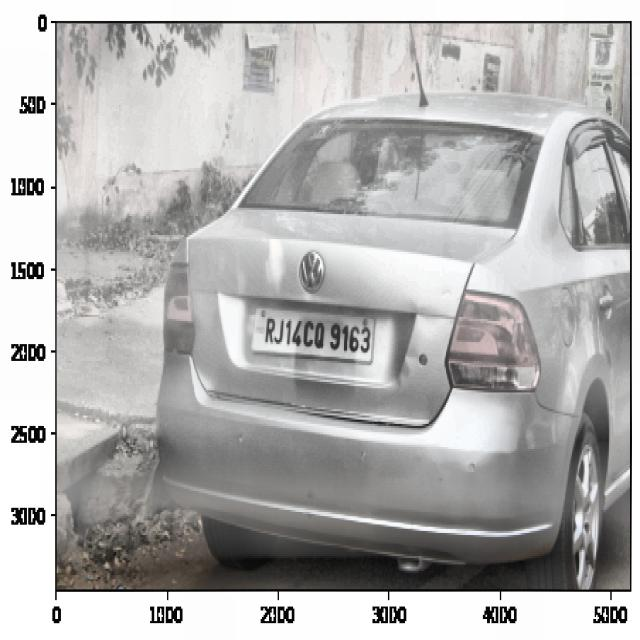license_plate: (260, 310, 376, 362)
